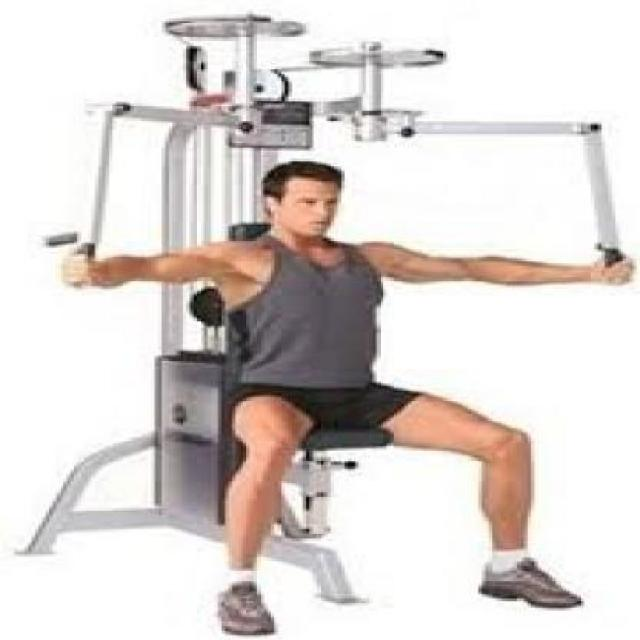chest fly machine: (11, 6, 640, 640)
